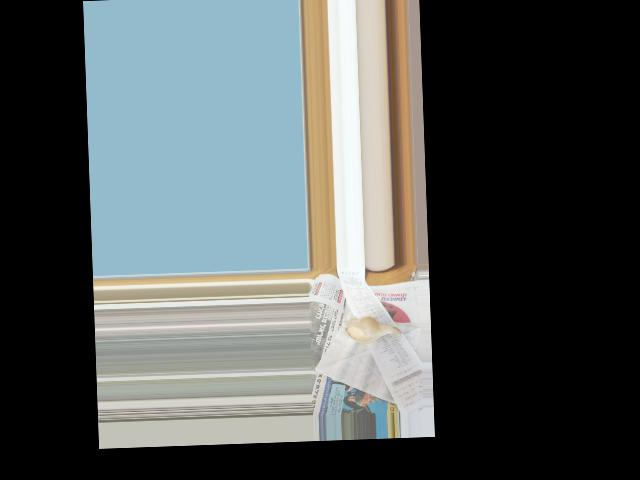onion: (346, 318, 395, 343)
